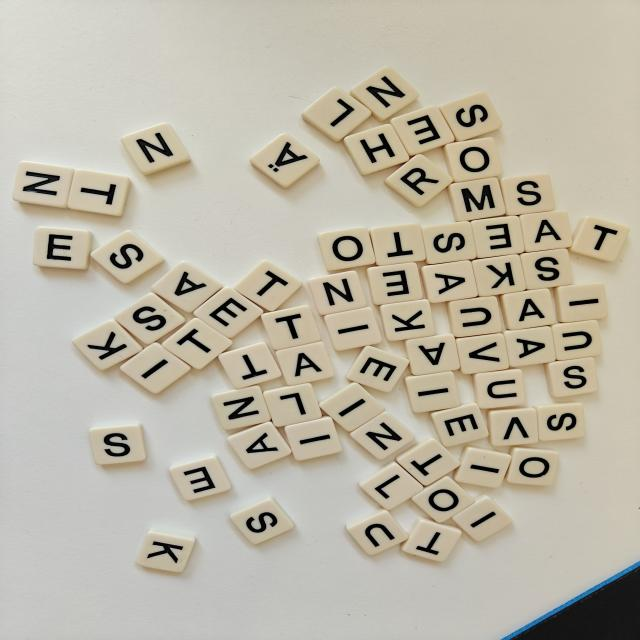a: (152, 261, 222, 312), (228, 422, 291, 469), (276, 342, 334, 385), (421, 260, 478, 302), (500, 288, 556, 330), (405, 334, 460, 375), (504, 326, 556, 368), (518, 211, 572, 251)
a_dot: (250, 134, 319, 188)
e: (193, 287, 263, 338), (391, 106, 455, 156), (346, 346, 409, 392), (169, 455, 231, 501), (430, 403, 488, 447), (33, 227, 92, 269), (367, 262, 423, 305), (471, 216, 524, 258)
h: (344, 124, 409, 175)
i: (121, 343, 191, 393), (320, 383, 384, 432), (453, 495, 512, 541), (285, 416, 342, 460), (325, 307, 382, 350), (453, 447, 511, 487), (405, 372, 460, 413), (552, 282, 607, 322)
k: (72, 320, 143, 370), (136, 529, 195, 572), (380, 299, 435, 341), (472, 254, 526, 296)
l: (302, 87, 371, 142), (359, 462, 423, 509), (264, 383, 321, 427)
m: (447, 177, 505, 222)
n: (350, 66, 419, 121), (121, 123, 190, 175), (350, 412, 415, 459), (13, 161, 74, 208), (212, 385, 270, 430), (309, 271, 366, 315)
o: (412, 476, 474, 523), (318, 227, 376, 271), (444, 138, 502, 182), (506, 447, 559, 485)
r: (385, 154, 452, 207)
s: (91, 230, 164, 283), (114, 293, 185, 345), (230, 496, 294, 544), (440, 92, 502, 141), (499, 173, 555, 216), (89, 423, 146, 465), (422, 221, 476, 264), (544, 357, 598, 397), (520, 249, 572, 289), (535, 402, 584, 441)
t: (162, 318, 232, 369), (235, 261, 302, 311), (396, 438, 460, 486), (68, 170, 131, 216), (219, 342, 281, 388), (401, 518, 462, 562), (261, 305, 320, 350), (570, 216, 629, 261), (370, 223, 425, 265)
u: (346, 509, 408, 555), (446, 296, 501, 337), (473, 369, 525, 409), (551, 320, 601, 360)
v: (456, 332, 509, 374), (487, 407, 538, 446)
